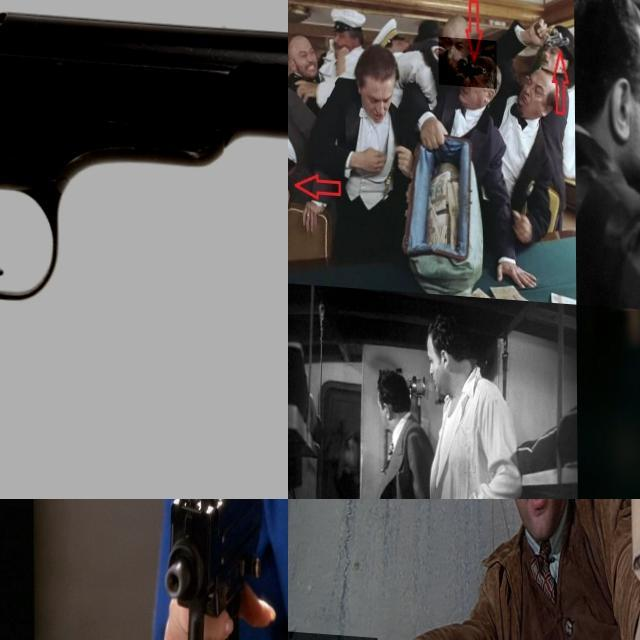gun-knife-thesis - v11 Yolov5 augmented: (0, 0, 288, 499), (157, 499, 266, 640), (438, 34, 496, 85), (528, 7, 568, 57)
